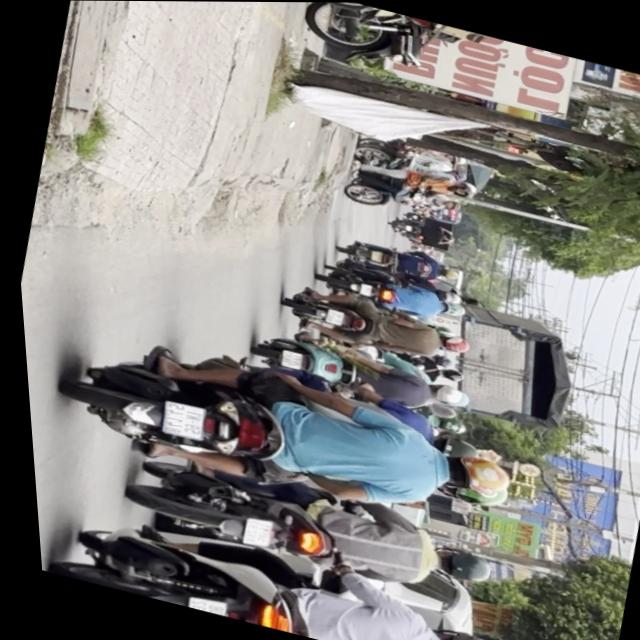helmet: (428, 446, 509, 501), (428, 471, 504, 513), (423, 543, 488, 588), (423, 380, 468, 410), (417, 623, 488, 640)
licenseplate: (41, 312, 524, 548), (37, 496, 501, 640), (113, 441, 500, 612), (240, 322, 471, 423)
nohelmet: (153, 399, 203, 440), (233, 516, 267, 548), (178, 595, 219, 616), (273, 347, 300, 371)
